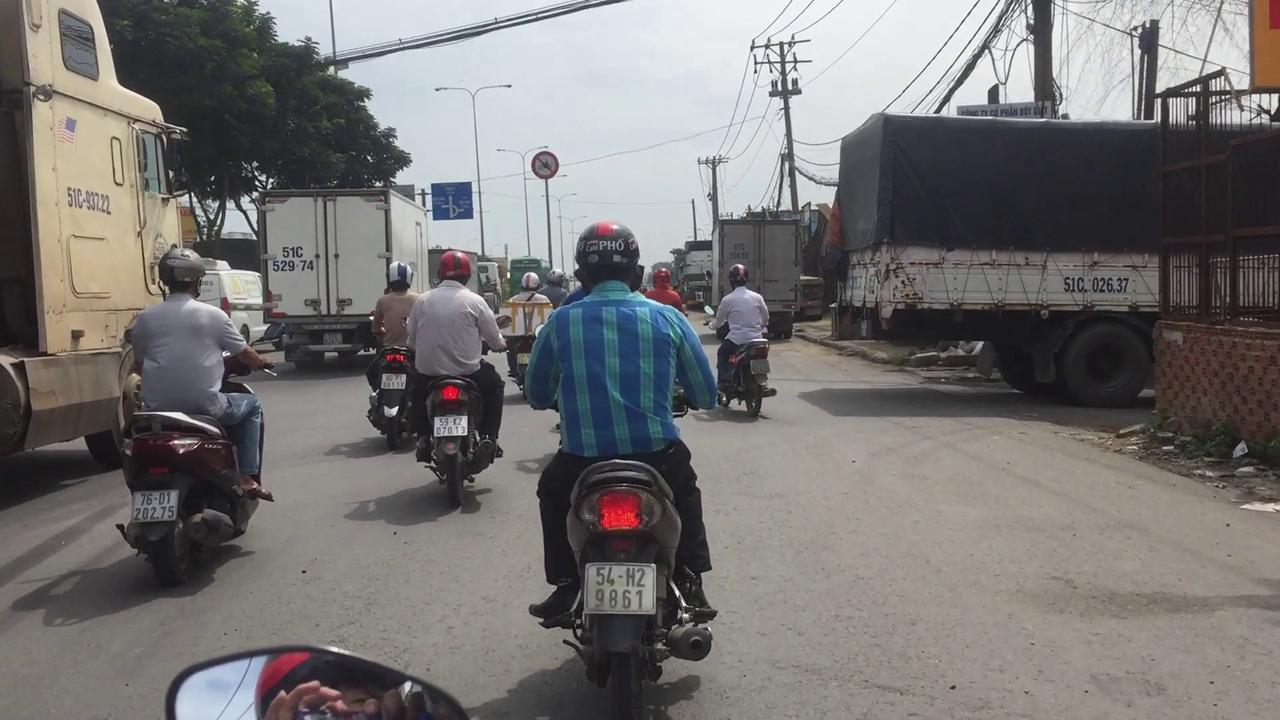P.103b: (530, 149, 560, 181)
